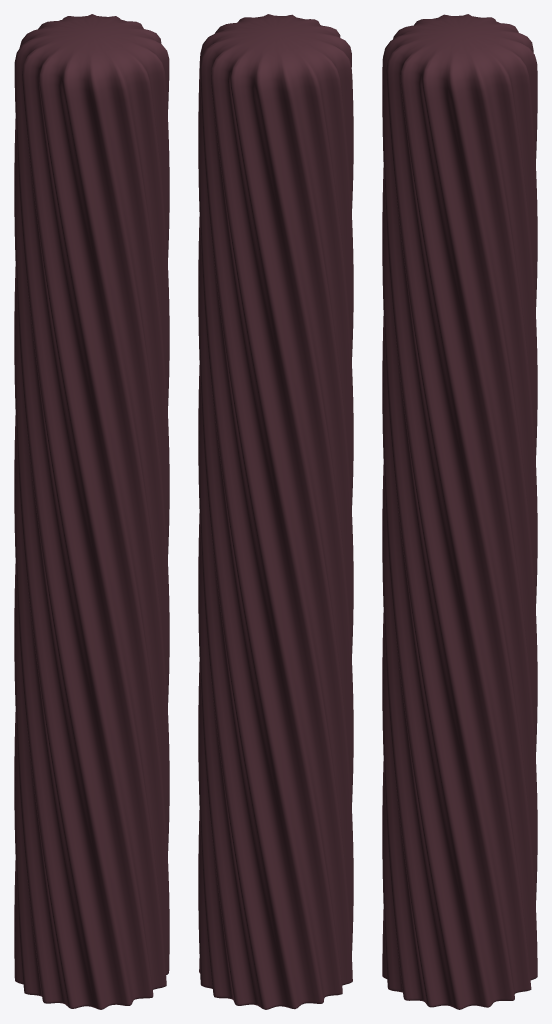
File: Blacklicorice2.9(LongerVer).fbx
3 views of the same model, side by side, from view 1: azimuth 30°, elevation 25°; view 2: azimuth 150°, elevation 25°; view 3: azimuth 270°, elevation 25° (orthographic).
Visible parts, largest first — view 1: Circle; view 2: Circle; view 3: Circle.
Part boxes in pixels (x1,y1,x2,y2): Circle: (14, 14, 169, 1009); Circle: (198, 14, 353, 1009); Circle: (382, 14, 537, 1009).
Size of the model in its own units: 666 by 4494 by 666.
